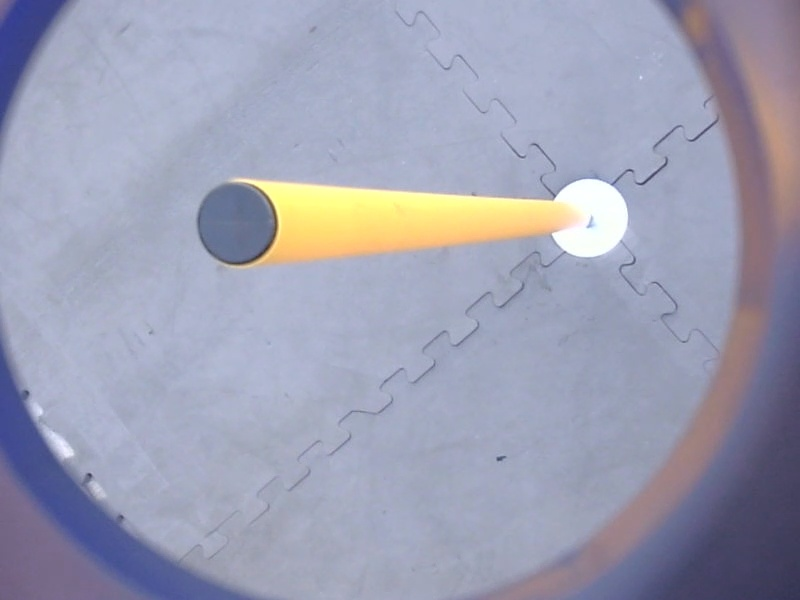tip: (189, 175, 286, 275)
